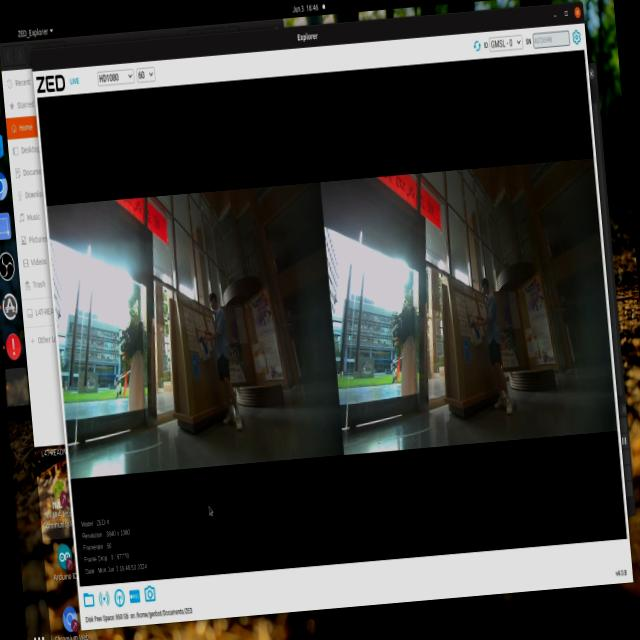blue: (197, 332, 210, 364), (470, 316, 482, 346)
